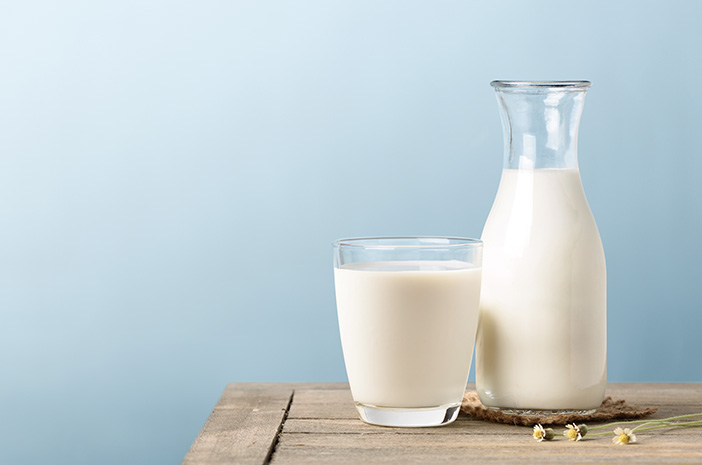produk_susu: (352, 251, 456, 414), (510, 150, 578, 393)
